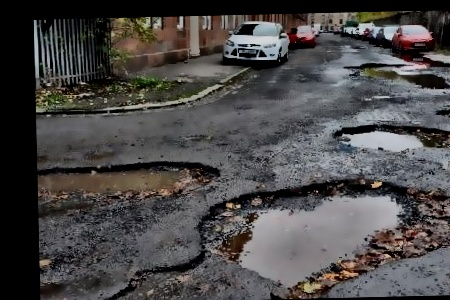pothole: (190, 172, 450, 300), (38, 157, 223, 204), (332, 120, 450, 157), (345, 60, 408, 81), (405, 69, 450, 93), (437, 104, 450, 125)
